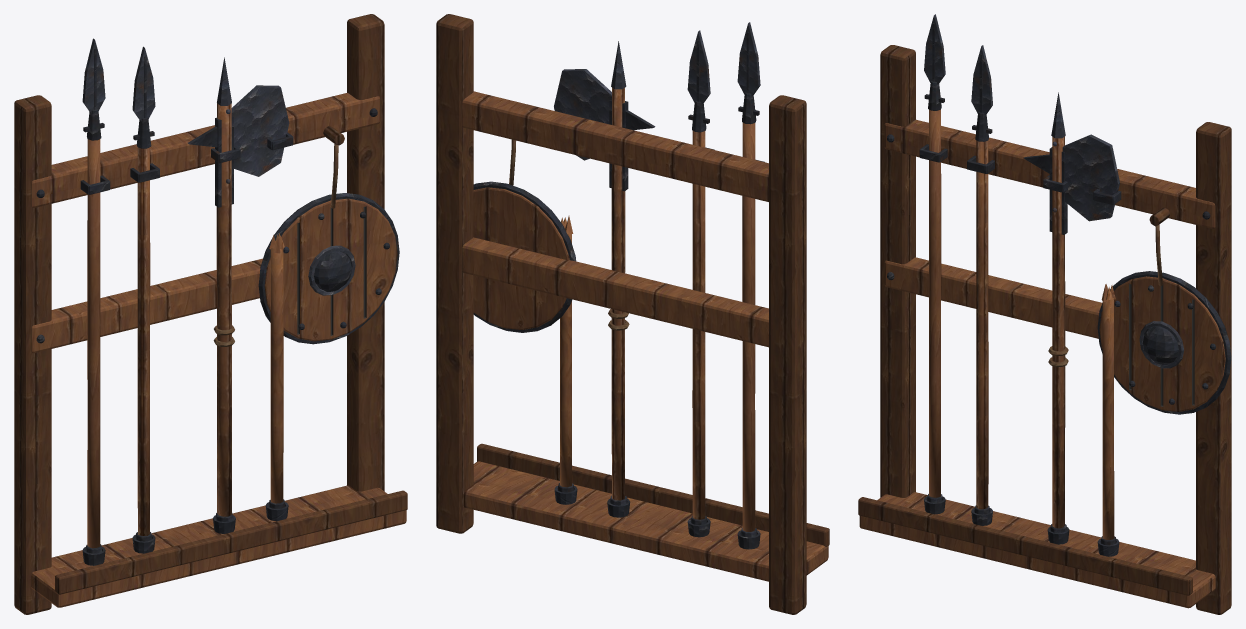
Rendered from rt_weapon_rack.glb.
3 renders of one model, left to right at view 1: azimuth 30°, elevation 25°; view 2: azimuth 150°, elevation 25°; view 3: azimuth 330°, elevation 25°, orthographic. The views are drawn at different scales.
Visible parts, largest first — view 1: model; view 2: model; view 3: model.
Part boxes in pixels (x1,y1,x2,y2): model: (14,14,407,614); model: (436,14,829,614); model: (858,14,1231,614).
Bounding box in the file's own units: 1.34 × 1.95 × 0.255.
7 materials, 6 textured.
